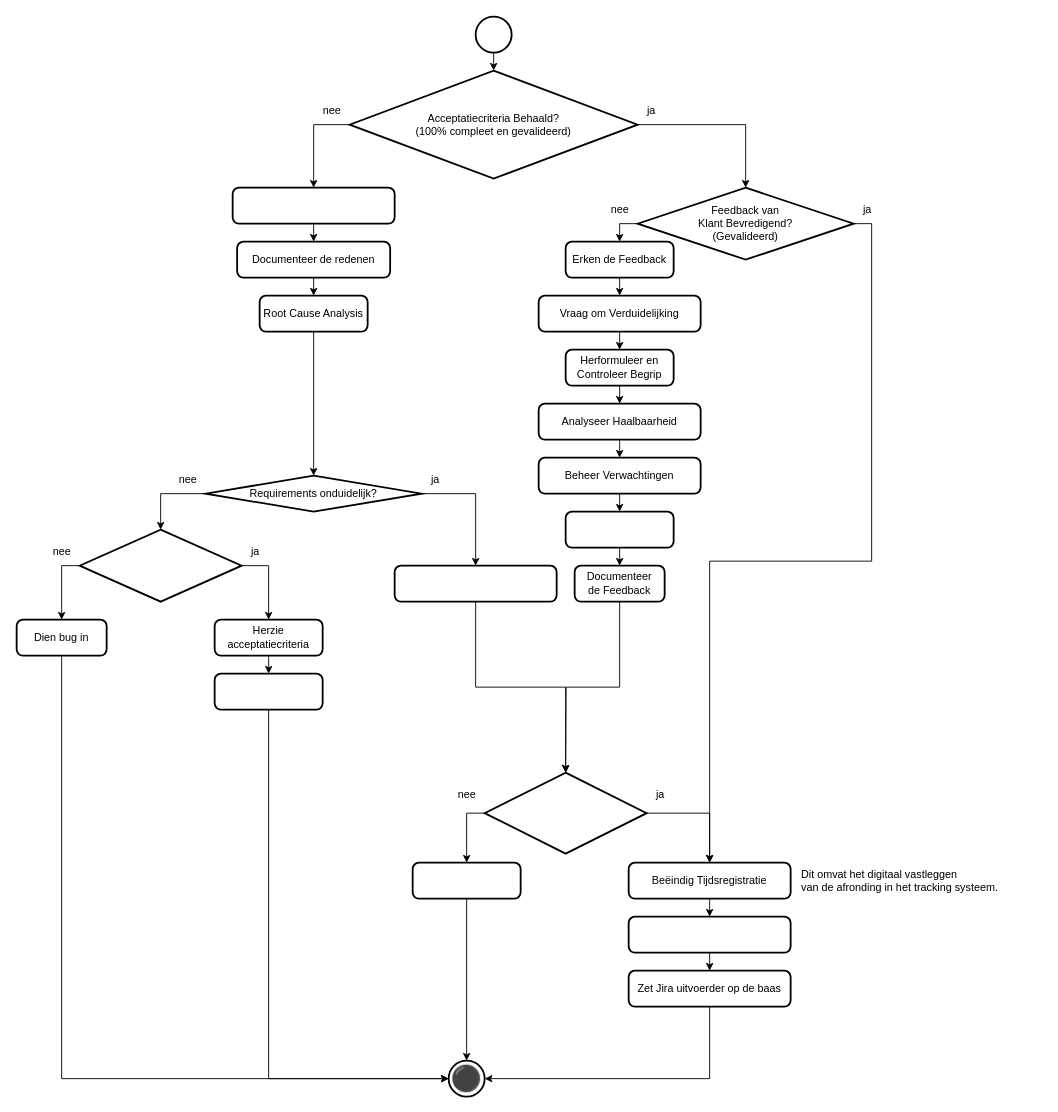
Image size: 1058x1112. Some labels were removed from this diagram. Each missing label, with the box of its shape:
Acceptatiecriteria onduidelijk?: (78, 528, 242, 602)
Ga naar Intake: (411, 861, 521, 899)
Ga naar Test: (213, 672, 323, 710)
Herzie requirements: (393, 564, 557, 602)
Koppel Terug naar de Klant: (564, 510, 674, 548)
Resultaat akkoord? (Gevalideerd): (483, 771, 647, 854)
Vaststellen van het Falen: (231, 186, 395, 224)
Zet Jira status op "Done": (627, 915, 791, 953)
